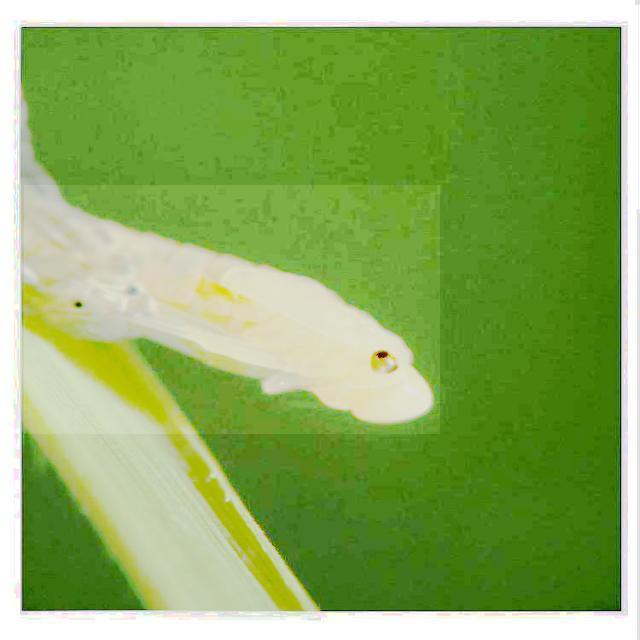green-leafhopper: (24, 185, 440, 434)
